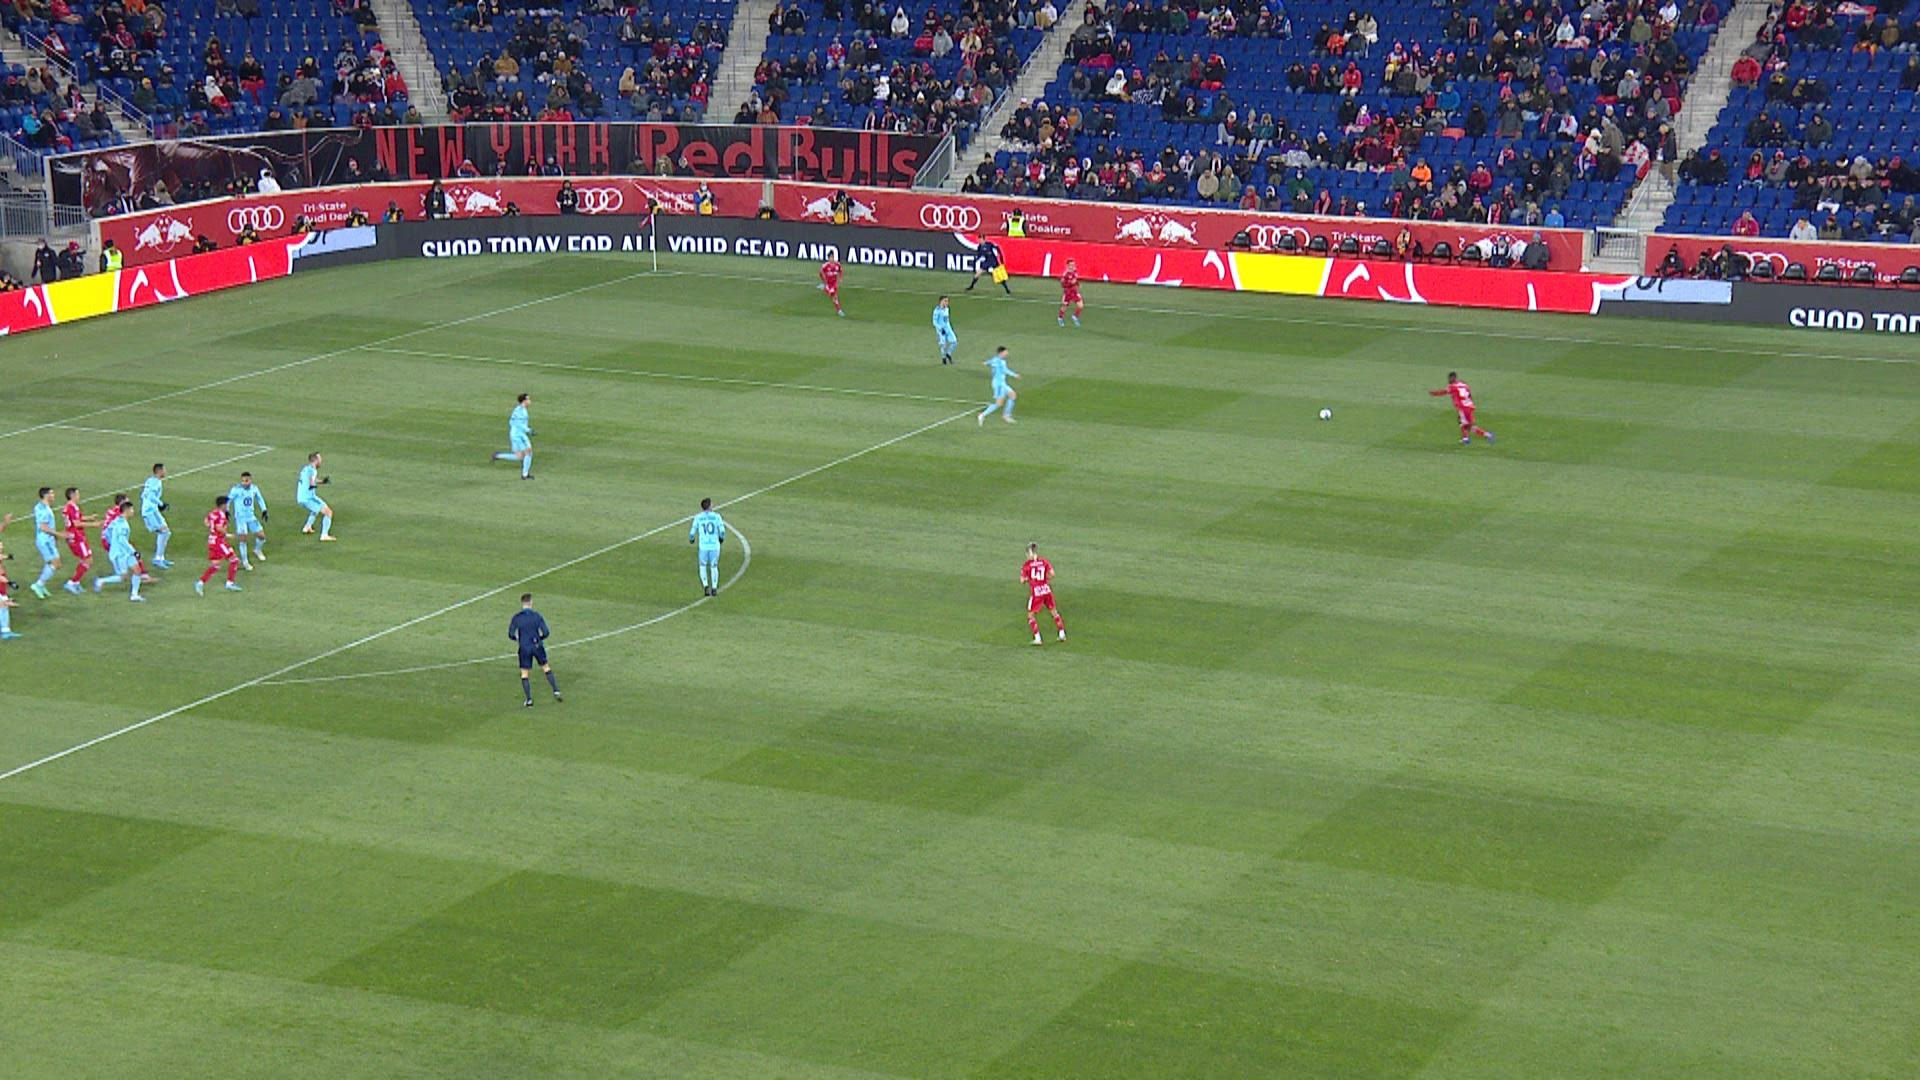football: (1319, 406, 1333, 422)
